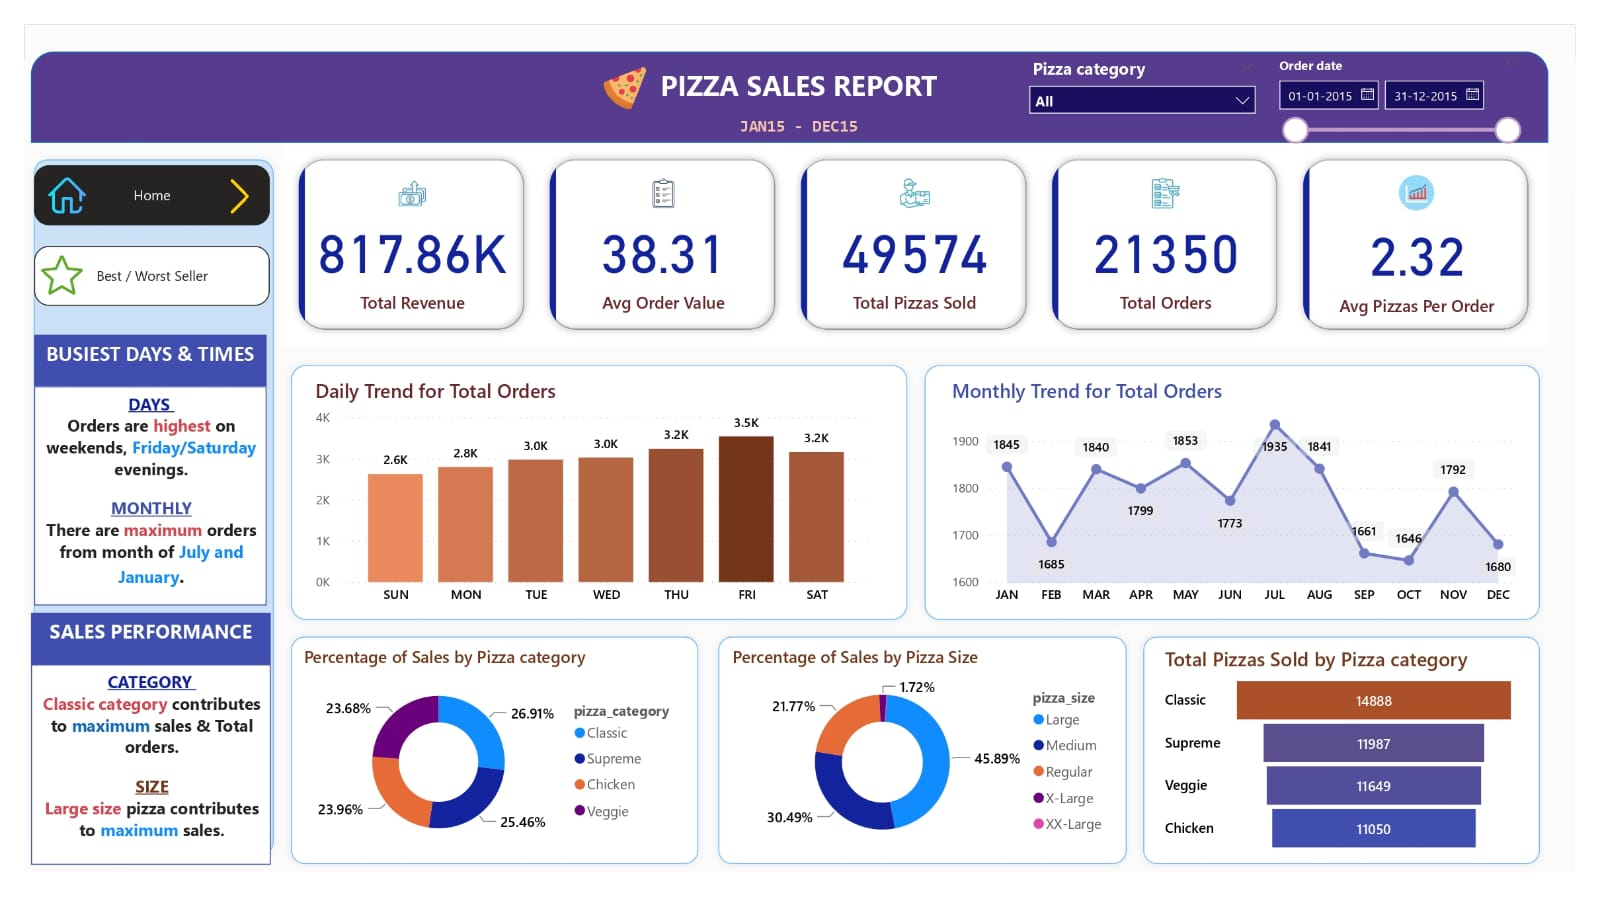

The page's visual inventory and layout, read from the dashboard file:
{"tool":"powerbi","page":{"name":"Home","canvas":[1500,820],"ordinal":0},"visuals":[{"type":"shape","box":[0,121.6,248.8,691],"z":0},{"type":"cardVisual","fields":{"Data":["pizza_sales.Total Revenue","pizza_sales.Avg Order Value","pizza_sales.Total Pizzas Sold","pizza_sales.Total Orders","pizza_sales.Avg Pizzas Per Order"]},"box":[248.8,114.2,1225.4,197.2],"z":1000},{"type":"shape","box":[5.5,25.8,1468.6,88.4],"z":2000},{"type":"textbox","box":[576.8,35,344.6,47.9],"z":3000},{"type":"textbox","box":[659.7,82.9,178.7,31.3],"z":4000},{"type":"image","box":[532.5,35,95.8,53.4],"z":5000},{"type":"shape","box":[248.8,320.6,613.6,263.5],"z":6000},{"type":"columnChart","title":"Daily Trend for Total Orders","fields":{"Category":["pizza_sales.Order Day"],"Y":["pizza_sales.Total Orders"]},"box":[276.4,340.9,549.1,228.5],"z":7000},{"type":"shape","box":[862.4,320.6,611.8,263.5],"z":8000},{"type":"areaChart","title":"Monthly Trend for Total Orders","fields":{"Category":["pizza_sales.Order Month"],"Y":["pizza_sales.Total Orders"]},"box":[891.9,340.9,556.5,228.5],"z":9000},{"type":"shape","box":[248.8,584.1,410.9,235.9],"z":10000},{"type":"shape","box":[663.4,584.1,410.9,235.9],"z":11000},{"type":"shape","box":[1074.3,584.1,399.9,235.9],"z":12000},{"type":"donutChart","title":"Percentage of Sales by Pizza category","fields":{"Y":["pizza_sales.Total Revenue"],"Category":["pizza_sales.pizza_category"]},"box":[265.3,600.7,379.6,204.5],"z":13000},{"type":"donutChart","title":"Percentage of Sales by Pizza Size","fields":{"Y":["pizza_sales.Total Revenue"],"Category":["pizza_sales.pizza_size"]},"box":[680,600.7,379.6,204.5],"z":14000},{"type":"funnel","title":"Total Pizzas Sold by Pizza category","fields":{"Category":["pizza_sales.pizza_category"],"Y":["pizza_sales.Total Pizzas Sold"]},"box":[1098.2,600.7,350.1,204.5],"z":15000},{"type":"textbox","box":[9.2,300.4,224.8,49.8],"z":16000},{"type":"textbox","box":[9.2,350.1,224.8,211.9],"z":17000},{"type":"textbox","box":[5.5,569.4,232.2,49.8],"z":18000},{"type":"textbox","box":[5.5,619.1,232.2,193.5],"z":19000},{"type":"slicer","fields":{"Values":["pizza_sales.pizza_category"]},"box":[961.9,25.8,239.6,75.6],"z":20000},{"type":"slicer","fields":{"Values":["pizza_sales.order_date"]},"box":[1201.4,25.8,254.3,110.6],"z":21000},{"type":"pageNavigator","box":[9.2,136.4,228.5,59],"z":21001},{"type":"pageNavigator","box":[9.2,213.8,228.5,59],"z":21002},{"type":"image","box":[9.2,217.4,53.4,49.8],"z":21003},{"type":"image","box":[9.2,141.9,62.7,46.1],"z":21004},{"type":"image","box":[180.6,143.7,53.4,44.2],"z":21005}]}

Visuals, with their boxes in screenshot pixels (x1, y1, x2, y2), scaled from the page's 1500x820 canvas onto the 1600x897 screenshot:
shape: {"left": 0, "top": 133, "right": 265, "bottom": 889}
cardVisual - pizza_sales.Total Revenue x pizza_sales.Avg Order Value: {"left": 265, "top": 125, "right": 1572, "bottom": 341}
shape: {"left": 6, "top": 28, "right": 1572, "bottom": 125}
textbox: {"left": 615, "top": 38, "right": 983, "bottom": 91}
textbox: {"left": 704, "top": 91, "right": 894, "bottom": 125}
image: {"left": 568, "top": 38, "right": 670, "bottom": 97}
shape: {"left": 265, "top": 351, "right": 920, "bottom": 639}
"Daily Trend for Total Orders" columnChart: {"left": 295, "top": 373, "right": 881, "bottom": 623}
shape: {"left": 920, "top": 351, "right": 1572, "bottom": 639}
"Monthly Trend for Total Orders" areaChart: {"left": 951, "top": 373, "right": 1545, "bottom": 623}
shape: {"left": 265, "top": 639, "right": 704, "bottom": 896}
shape: {"left": 708, "top": 639, "right": 1146, "bottom": 896}
shape: {"left": 1146, "top": 639, "right": 1572, "bottom": 896}
"Percentage of Sales by Pizza category" donutChart: {"left": 283, "top": 657, "right": 688, "bottom": 881}
"Percentage of Sales by Pizza Size" donutChart: {"left": 725, "top": 657, "right": 1130, "bottom": 881}
"Total Pizzas Sold by Pizza category" funnel: {"left": 1171, "top": 657, "right": 1545, "bottom": 881}
textbox: {"left": 10, "top": 329, "right": 250, "bottom": 383}
textbox: {"left": 10, "top": 383, "right": 250, "bottom": 615}
textbox: {"left": 6, "top": 623, "right": 254, "bottom": 677}
textbox: {"left": 6, "top": 677, "right": 254, "bottom": 889}
slicer - pizza_sales.pizza_category: {"left": 1026, "top": 28, "right": 1282, "bottom": 111}
slicer - pizza_sales.order_date: {"left": 1281, "top": 28, "right": 1553, "bottom": 149}
pageNavigator: {"left": 10, "top": 149, "right": 254, "bottom": 214}
pageNavigator: {"left": 10, "top": 234, "right": 254, "bottom": 298}
image: {"left": 10, "top": 238, "right": 67, "bottom": 292}
image: {"left": 10, "top": 155, "right": 77, "bottom": 206}
image: {"left": 193, "top": 157, "right": 250, "bottom": 206}
